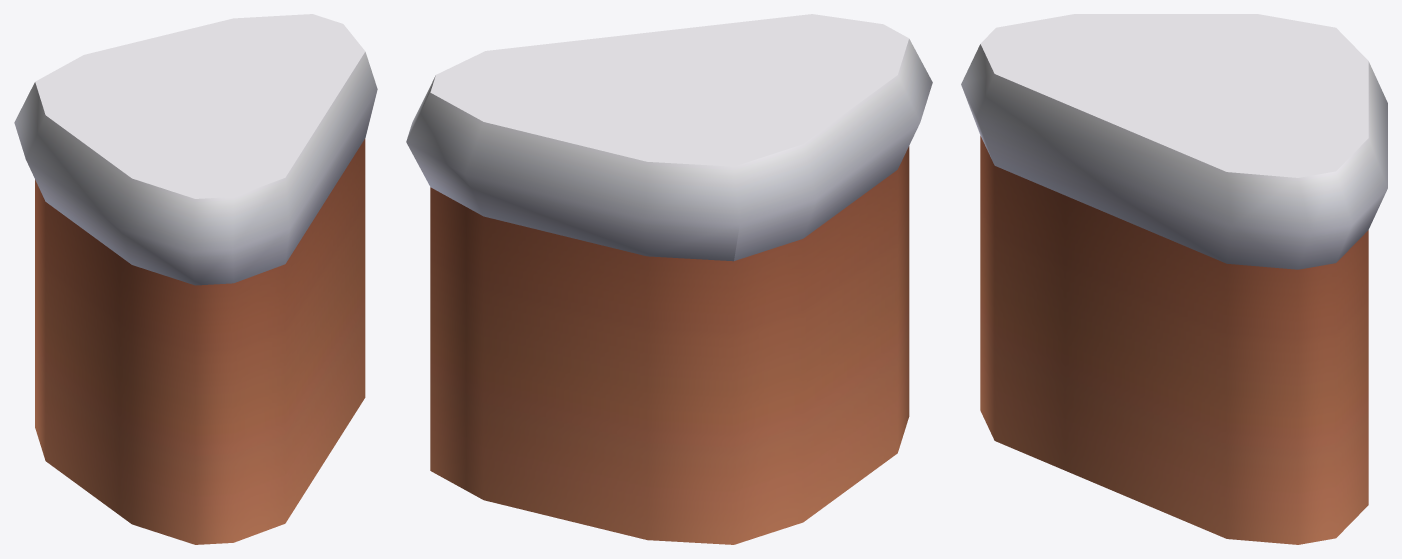
File: kenney-platformer-block-snow-corner.glb
3 renders of one model, left to right at view 1: azimuth 30°, elevation 25°; view 2: azimuth 150°, elevation 25°; view 3: azimuth 270°, elevation 25°, orthographic. The views are drawn at different scales.
Visible parts, largest first — view 1: block-snow-corner; view 2: block-snow-corner; view 3: block-snow-corner.
Part boxes in pixels (x1,y1,x2,y2): block-snow-corner: (14,14,377,544); block-snow-corner: (406,14,932,544); block-snow-corner: (961,14,1387,544).
Bounding box in the file's own units: 1.05 × 1 × 1.05.
1 material, 1 textured.
